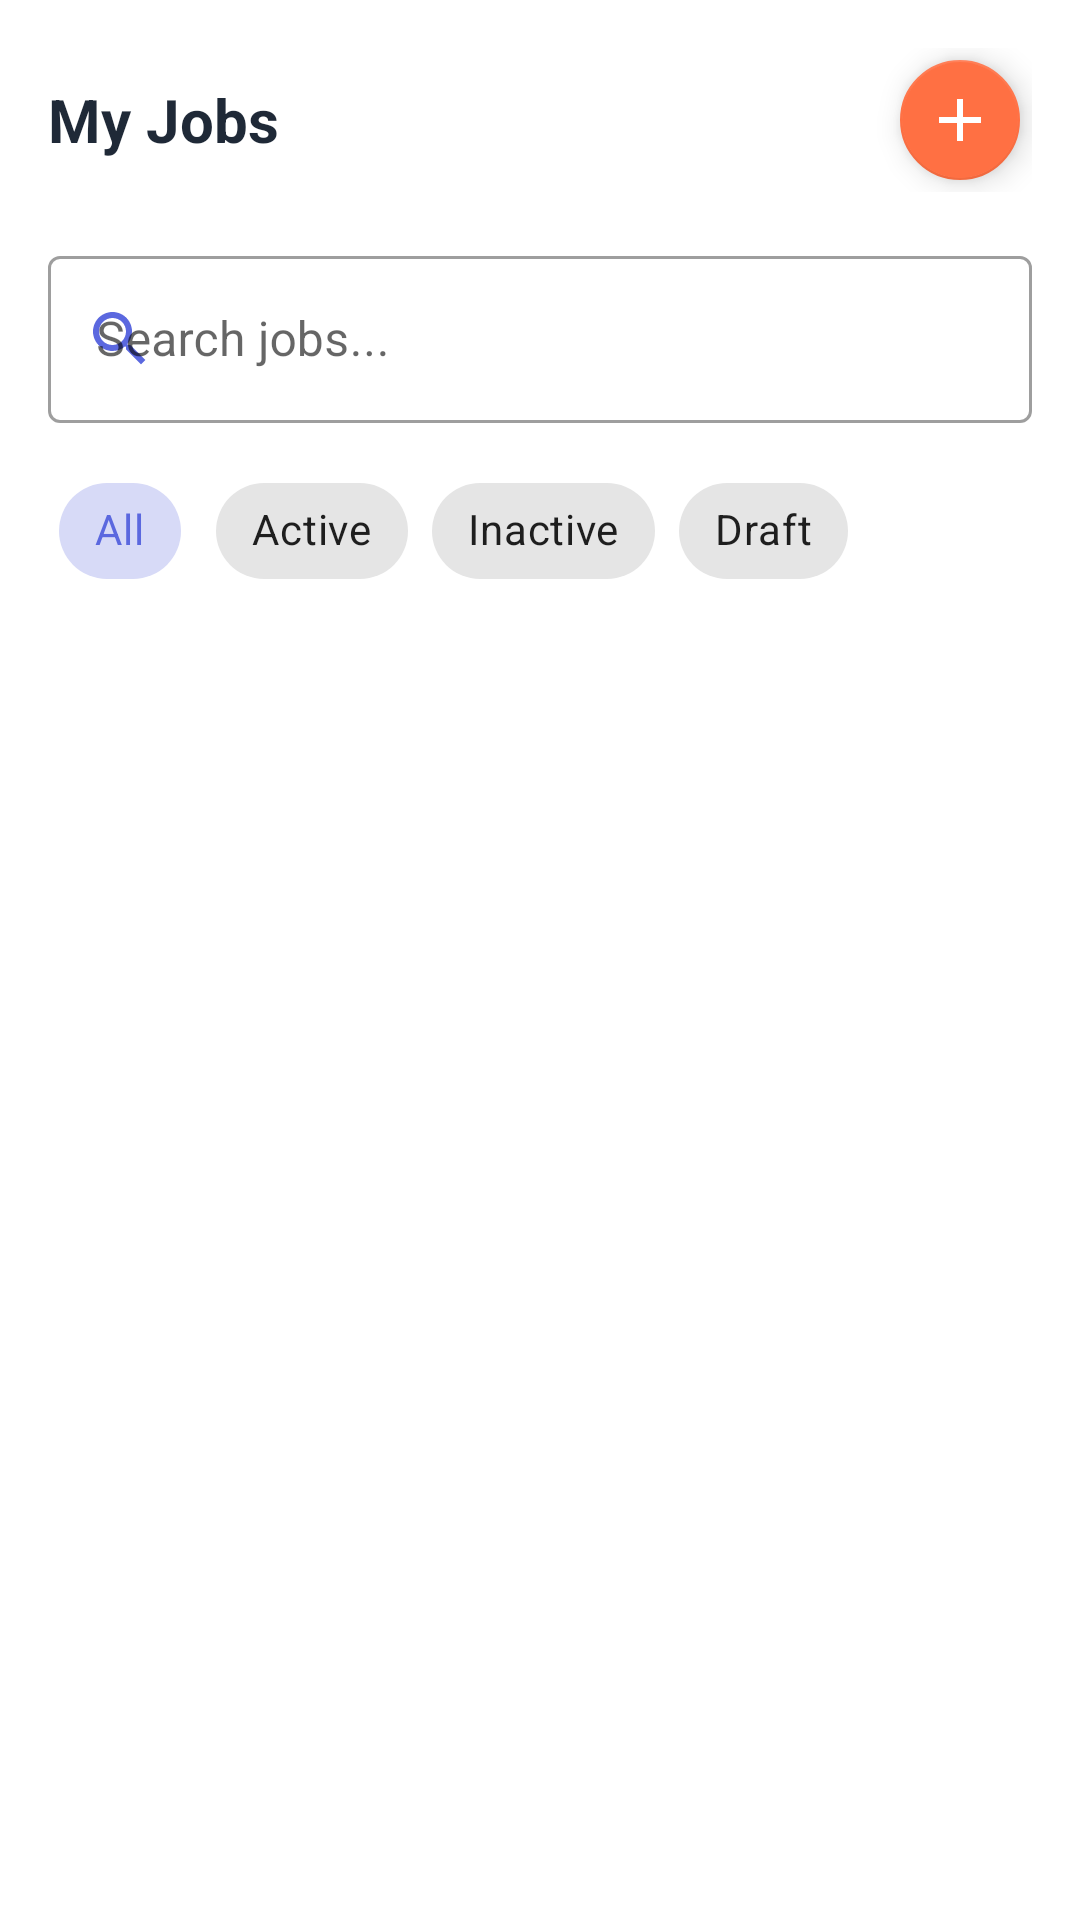

Icon click points for this 1080 × 1920 phone screenshot, format (x,y):
Add Job: (961,120)
